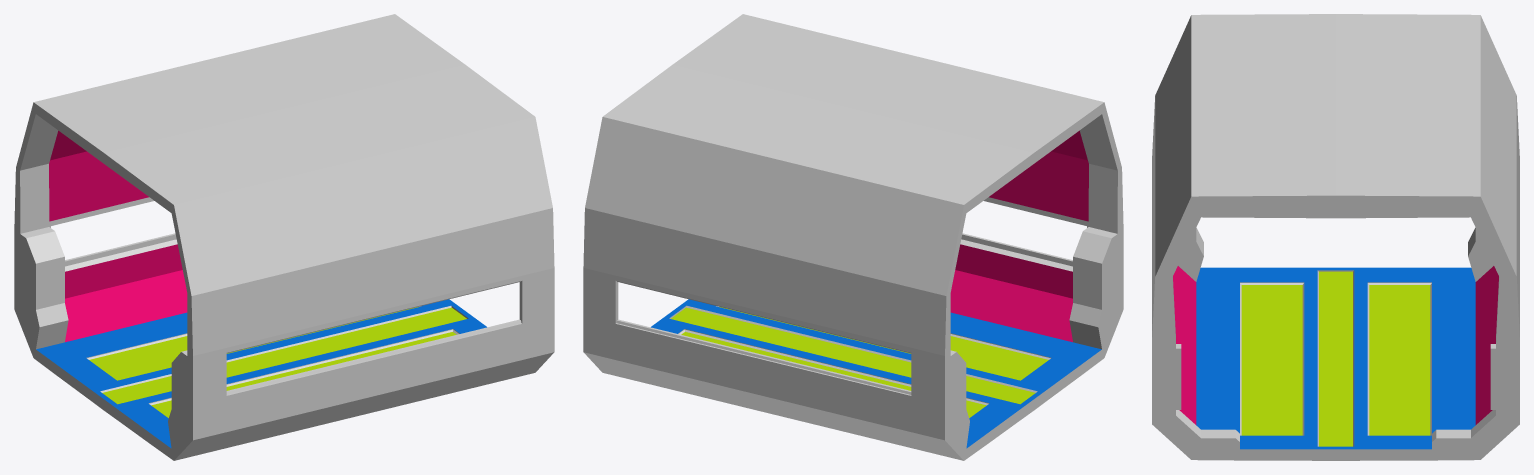
Rendered from CorridorMockup.fbx.
The picture shows the model from 3 angles, left to right: view 1: azimuth 30°, elevation 25°; view 2: azimuth 150°, elevation 25°; view 3: azimuth 270°, elevation 25°; orthographic projection. The views are drawn at different scales.
Parts seen in each view (by area): view 1: BasicCorridor; view 2: BasicCorridor; view 3: BasicCorridor.
Part boxes in pixels (bbox=[...]): BasicCorridor: bbox=[14, 14, 554, 460]; BasicCorridor: bbox=[583, 14, 1123, 460]; BasicCorridor: bbox=[1152, 14, 1519, 460].
Bounding box in the file's own units: 1000 × 681 × 855.
